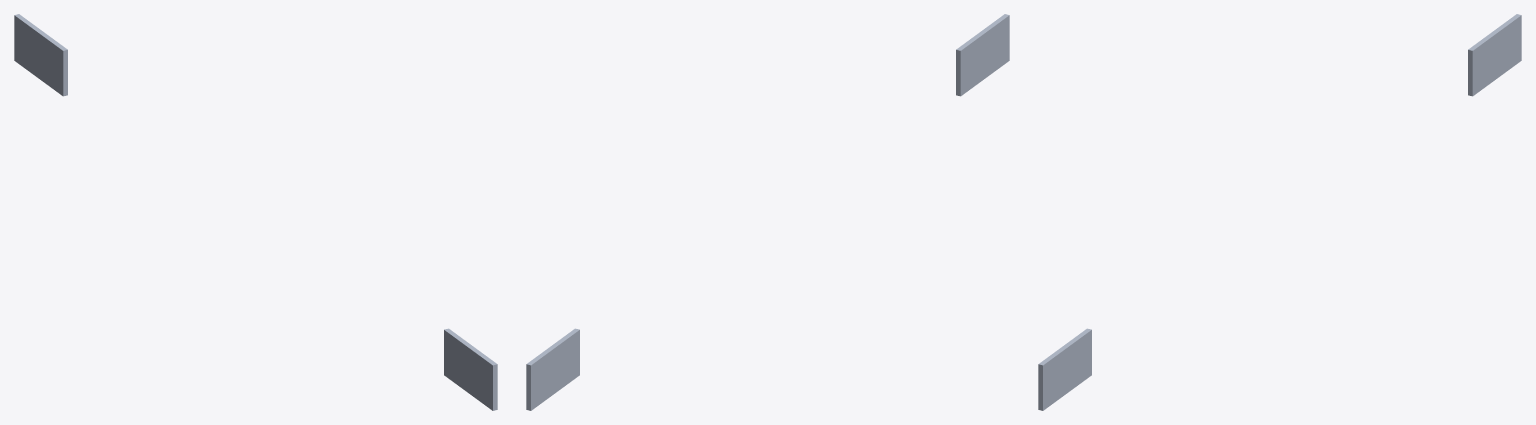
The model's file is SideMirrors.glb.
3 renders of one model, left to right at view 1: azimuth 30°, elevation 25°; view 2: azimuth 150°, elevation 25°; view 3: azimuth 330°, elevation 25°, orthographic.
Parts seen in each view (by area): view 1: Cube.055; view 2: Cube.055; view 3: Cube.055.
Part boxes in pixels (<box>): Cube.055: <box>14,14,497,410</box>; Cube.055: <box>526,14,1009,410</box>; Cube.055: <box>1038,14,1521,410</box>.
Size of the model in its own units: 0.000529 by 0.00479 by 0.0912.
Materials: 1 (1 with a texture image).
